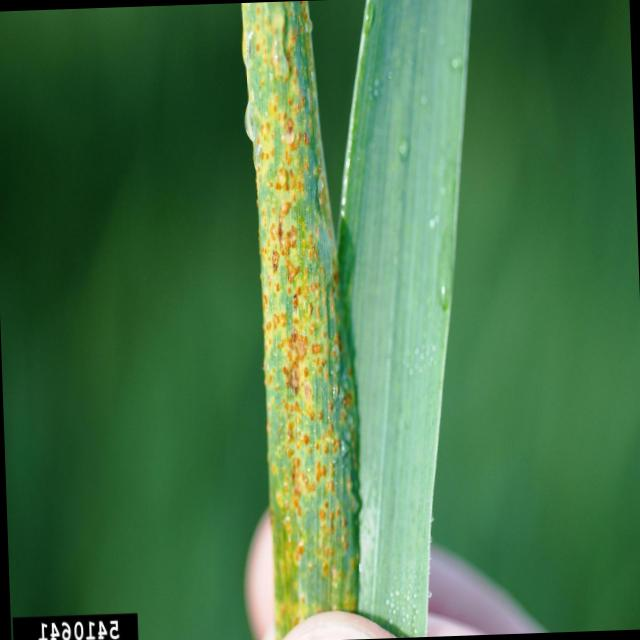leaf_rust: (242, 0, 359, 638)
